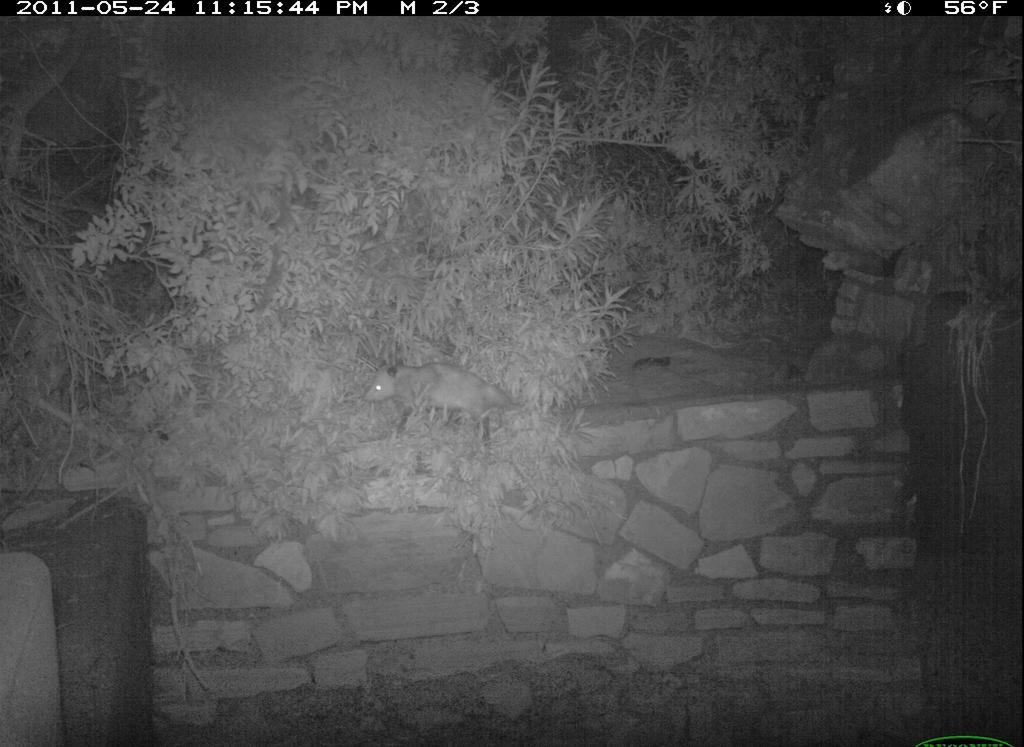opossum: (364, 344, 541, 446)
